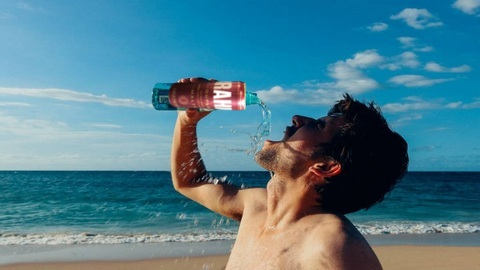duplo_malte: (169, 79, 251, 114)
